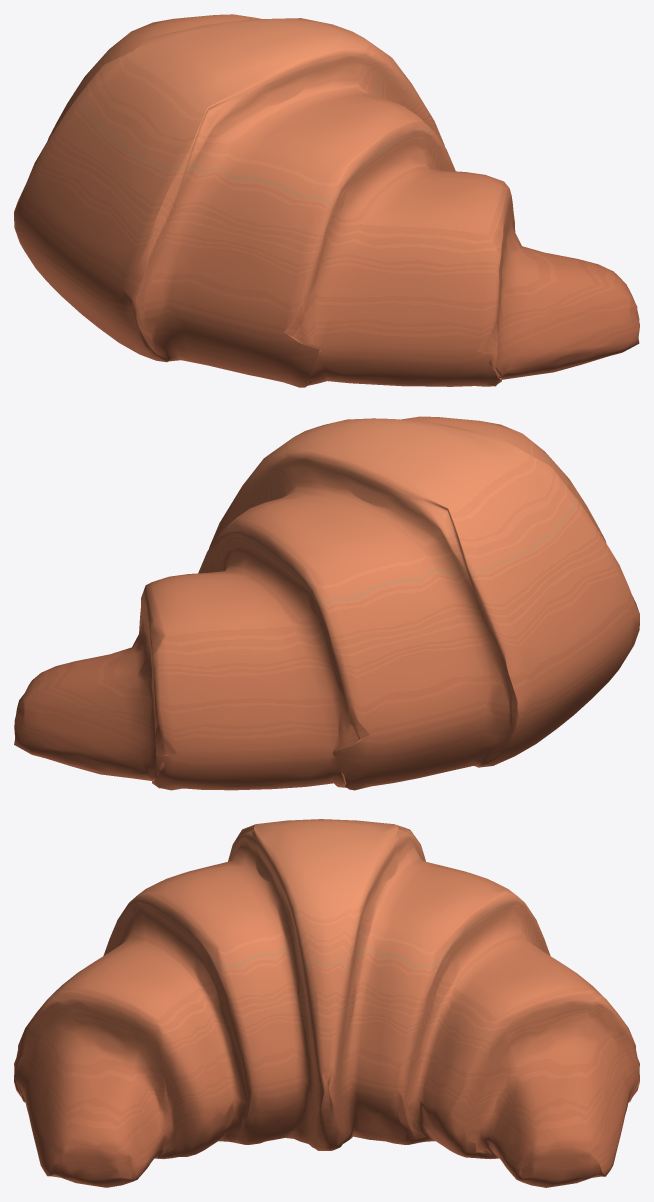
3 renders of one model, top to bottom at view 1: azimuth 30°, elevation 25°; view 2: azimuth 150°, elevation 25°; view 3: azimuth 270°, elevation 25°, orthographic. The views are drawn at different scales.
Bounding box in the file's own units: 0.6964 × 0.4054 × 0.9506.
Materials: 1 (1 with a texture image).
